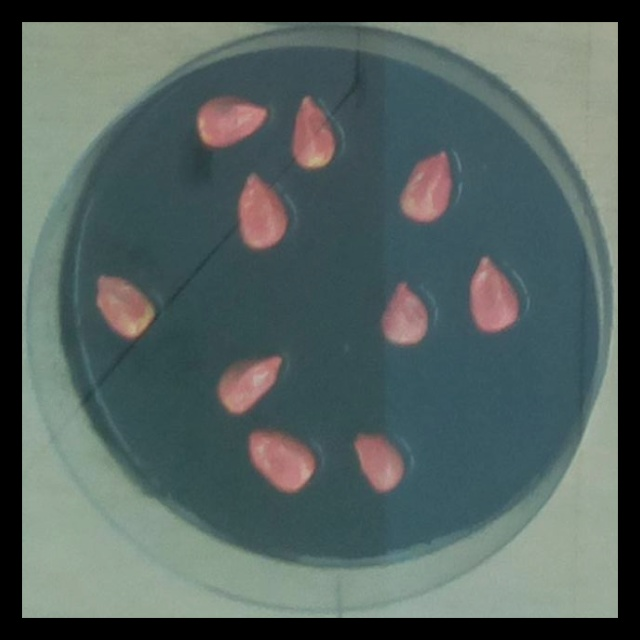Zea mays: (242, 421, 320, 497), (188, 86, 273, 154), (211, 345, 289, 419), (90, 266, 161, 346), (393, 142, 459, 228), (231, 163, 293, 254), (462, 246, 523, 335), (285, 89, 342, 174), (346, 423, 410, 498), (373, 274, 435, 350)
